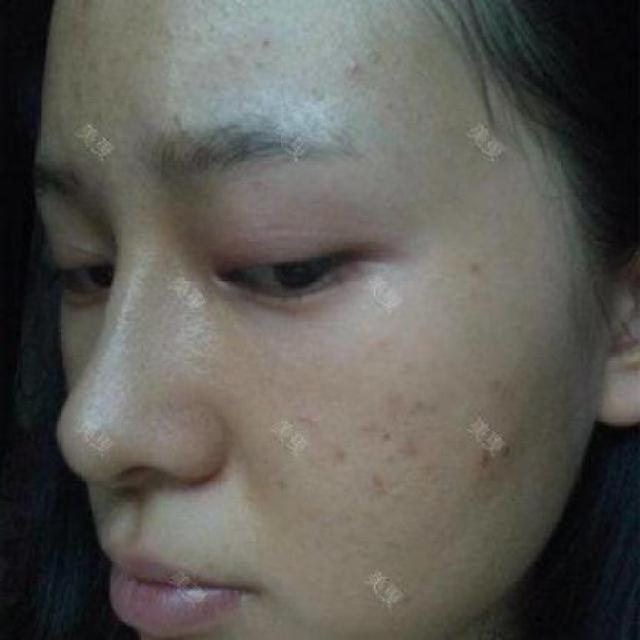Acne: (389, 431, 429, 472), (360, 462, 398, 502), (328, 443, 355, 469)
Whiteheads: (343, 57, 365, 77)
